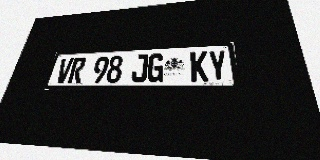8: (105, 55, 124, 83)
9: (91, 56, 110, 83)
G: (146, 53, 164, 82)
J: (130, 54, 149, 83)
K: (190, 51, 209, 82)
R: (67, 57, 87, 84)
V: (54, 58, 74, 84)
Y: (208, 50, 228, 82)
